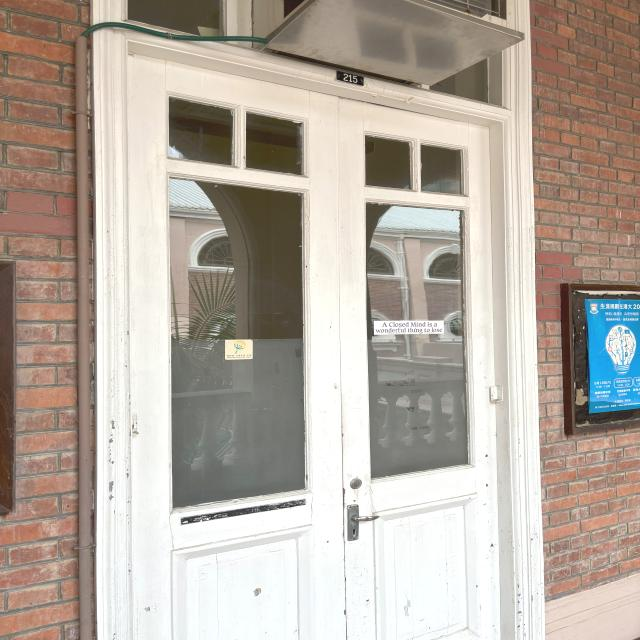MB215_roomNumber: (330, 66, 370, 90)
